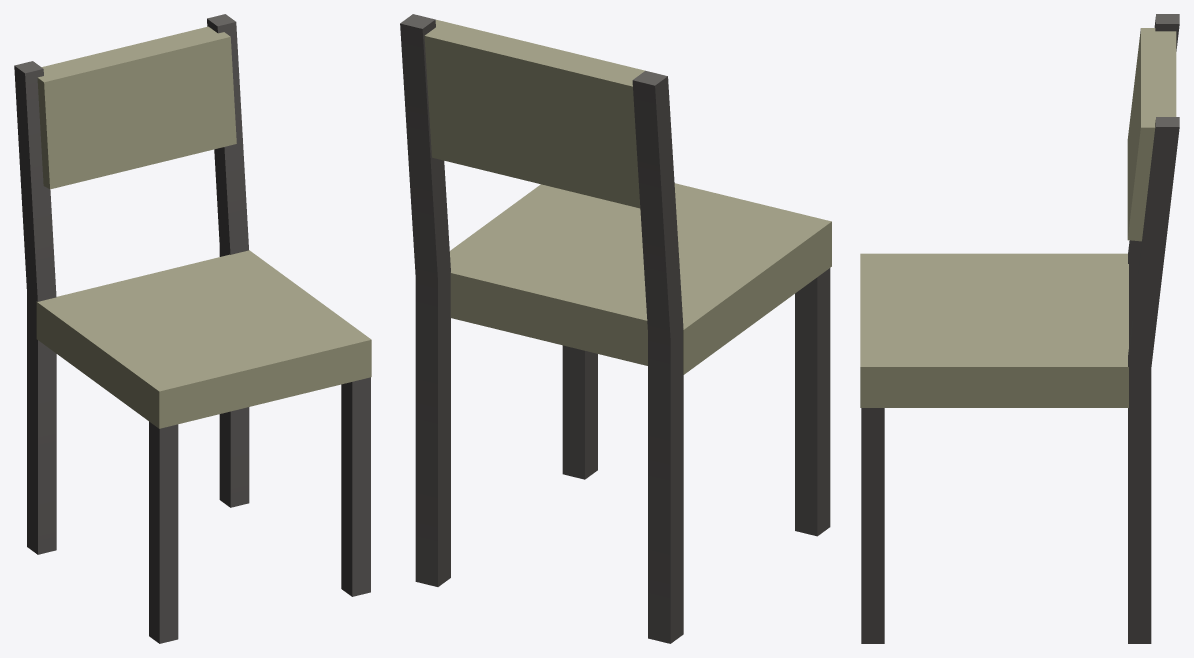
Rendered from SO_Chair04.fbx.
The picture shows the model from 3 angles, left to right: view 1: azimuth 30°, elevation 25°; view 2: azimuth 150°, elevation 25°; view 3: azimuth 270°, elevation 25°; orthographic projection. The views are drawn at different scales.
Parts seen in each view (by area): view 1: SO_Chair04; view 2: SO_Chair04; view 3: SO_Chair04.
Part boxes in pixels (<box>): SO_Chair04: <box>14,14,371,643</box>; SO_Chair04: <box>400,14,831,643</box>; SO_Chair04: <box>860,14,1179,643</box>.
Bounding box in the file's own units: 0.9269 × 1.97 × 1.1.
